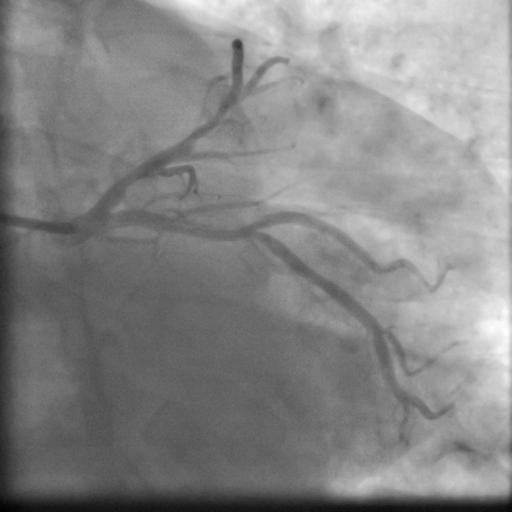Stenosis: (112, 168, 155, 190)
